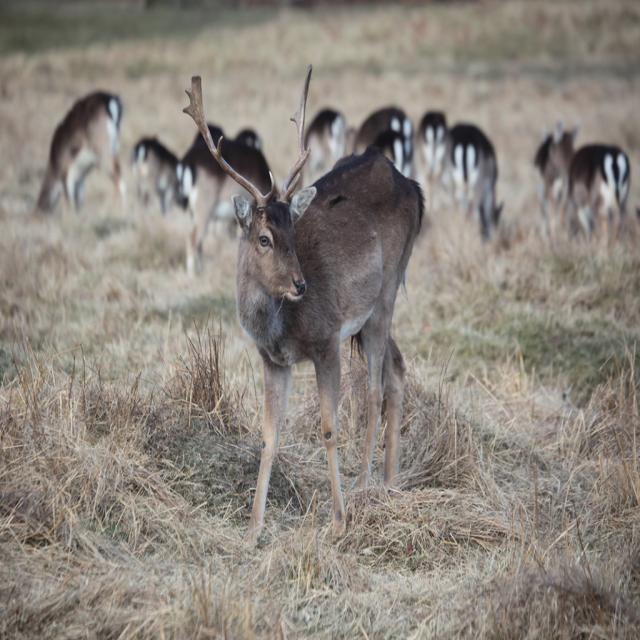Deer: (184, 66, 426, 548), (36, 88, 127, 212), (557, 142, 631, 247), (443, 124, 505, 243), (346, 104, 416, 185), (532, 122, 577, 212), (133, 132, 179, 217), (185, 122, 227, 202), (302, 106, 344, 176), (227, 124, 263, 194), (418, 111, 446, 188)
